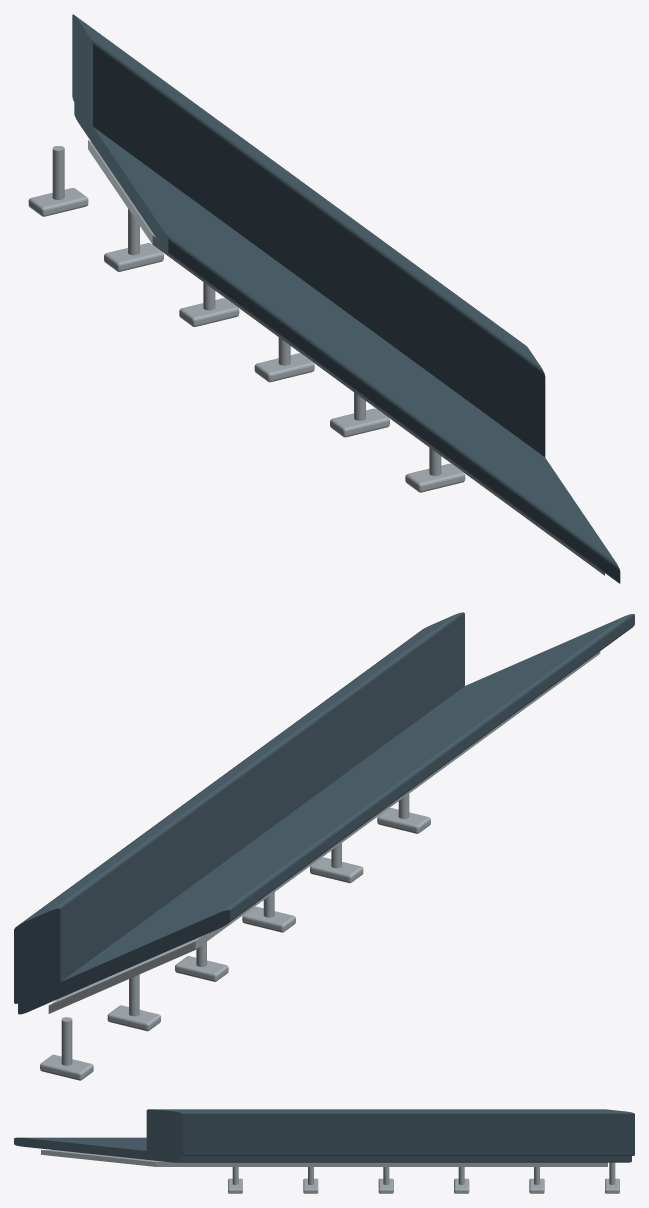
Rendered from cabin_bench_length_600cm_left.glb.
3 views of the same model, one above another, from view 1: azimuth 30°, elevation 25°; view 2: azimuth 150°, elevation 25°; view 3: azimuth 270°, elevation 25° (orthographic). The views are drawn at different scales.
Parts seen in each view (by area): view 1: Bench upright back.027, Bench seat cushion.027, Bench support beam.027, Bench foot.080, Bench foot.078, Bench foot.083, Bench foot.081, Bench foot.079, Bench foot.082; view 2: Bench upright back.027, Bench seat cushion.027, Bench support beam.027, Bench foot.083, Bench foot.080, Bench foot.078, Bench foot.079, Bench foot.081, Bench foot.082; view 3: Bench upright back.027, Bench seat cushion.027, Bench support beam.027, Bench foot.080, Bench foot.081, Bench foot.079, Bench foot.082, Bench foot.078, Bench foot.083, Bench pedestal.083.
Part boxes in pixels (box(x1,y1,x2,y2)): Bench upright back.027: box(72, 14, 545, 457); Bench seat cushion.027: box(74, 101, 620, 583); Bench support beam.027: box(88, 140, 604, 575); Bench foot.080: box(254, 353, 314, 382); Bench foot.078: box(405, 463, 465, 492); Bench foot.083: box(28, 188, 88, 216); Bench foot.081: box(179, 298, 239, 326); Bench foot.079: box(330, 408, 389, 437); Bench foot.082: box(104, 243, 163, 271); Bench upright back.027: box(14, 612, 464, 1003); Bench seat cushion.027: box(18, 614, 634, 1014); Bench support beam.027: box(48, 651, 600, 1013); Bench foot.083: box(40, 1054, 93, 1080); Bench foot.080: box(242, 906, 295, 932); Bench foot.078: box(377, 808, 430, 833); Bench foot.079: box(310, 857, 363, 883); Bench foot.081: box(175, 956, 228, 981); Bench foot.082: box(107, 1005, 160, 1031); Bench upright back.027: box(146, 1109, 634, 1155); Bench seat cushion.027: box(14, 1137, 631, 1162); Bench support beam.027: box(41, 1150, 607, 1166); Bench foot.080: box(378, 1178, 393, 1193); Bench foot.081: box(454, 1178, 469, 1193); Bench foot.079: box(303, 1178, 318, 1193); Bench foot.082: box(529, 1178, 544, 1193); Bench foot.078: box(228, 1178, 242, 1193); Bench foot.083: box(605, 1178, 619, 1193); Bench pedestal.083: box(609, 1162, 615, 1184).
Bounding box in the file's own units: 0.56 × 1.25 × 8.24.
